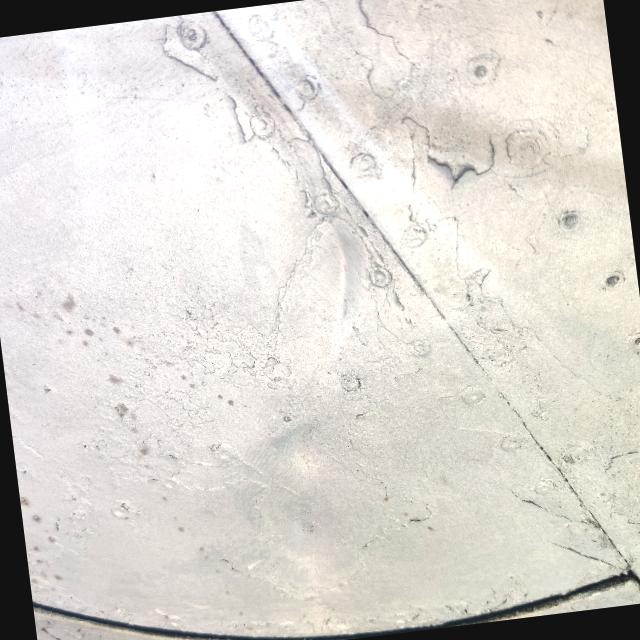dent: (260, 194, 400, 374)
